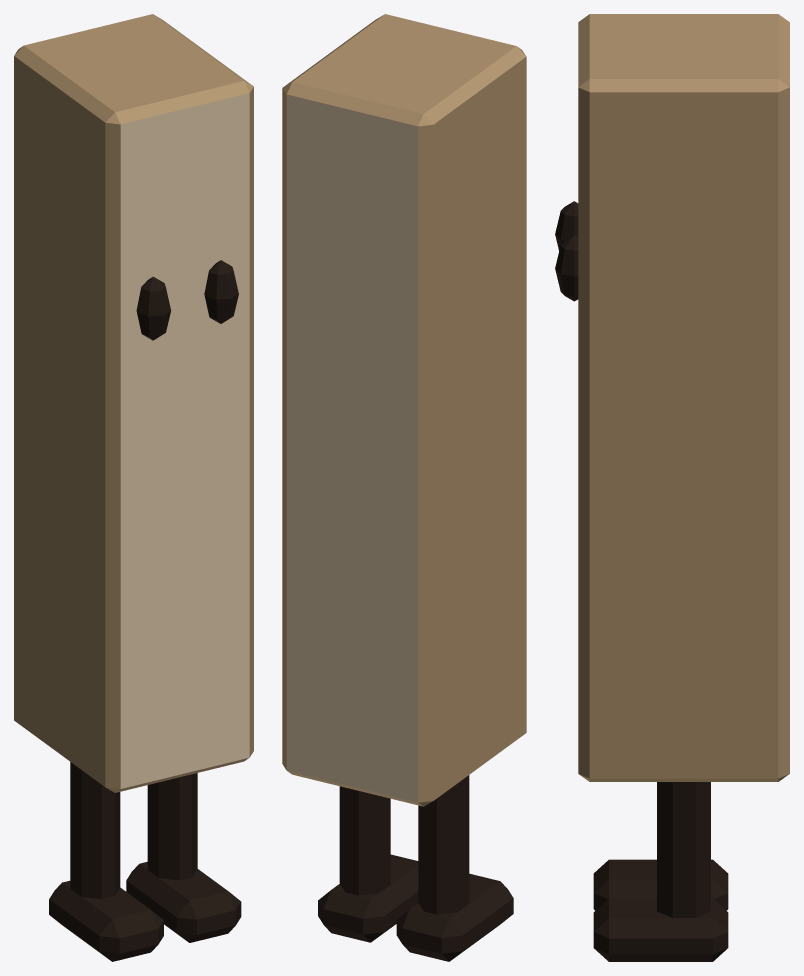
3 renders of one model, left to right at view 1: azimuth 30°, elevation 25°; view 2: azimuth 150°, elevation 25°; view 3: azimuth 270°, elevation 25°, orthographic. The views are drawn at different scales.
Visible parts, largest first — view 1: Glyph, Leg_L, Leg_R, Eye_L, Eye_R; view 2: Glyph, Leg_L, Leg_R; view 3: Glyph, Leg_R, Leg_L, Eye_R, Eye_L.
Part boxes in pixels (x1=…): Glyph: x1=14, y1=14, x2=253, y2=792; Leg_L: x1=49, y1=762, x2=163, y2=961; Leg_R: x1=126, y1=773, x2=241, y2=942; Eye_L: x1=136, y1=276, x2=171, y2=340; Eye_R: x1=204, y1=260, x2=238, y2=323; Glyph: x1=282, y1=14, x2=526, y2=806; Leg_L: x1=396, y1=775, x2=513, y2=961; Leg_R: x1=318, y1=786, x2=418, y2=942; Glyph: x1=578, y1=14, x2=789, y2=781; Leg_R: x1=593, y1=782, x2=728, y2=961; Leg_L: x1=593, y1=859, x2=728, y2=910; Eye_R: x1=555, y1=235, x2=578, y2=301; Eye_L: x1=555, y1=201, x2=578, y2=250.
Size of the model in its own units: 0.092 by 0.508 by 0.122.
